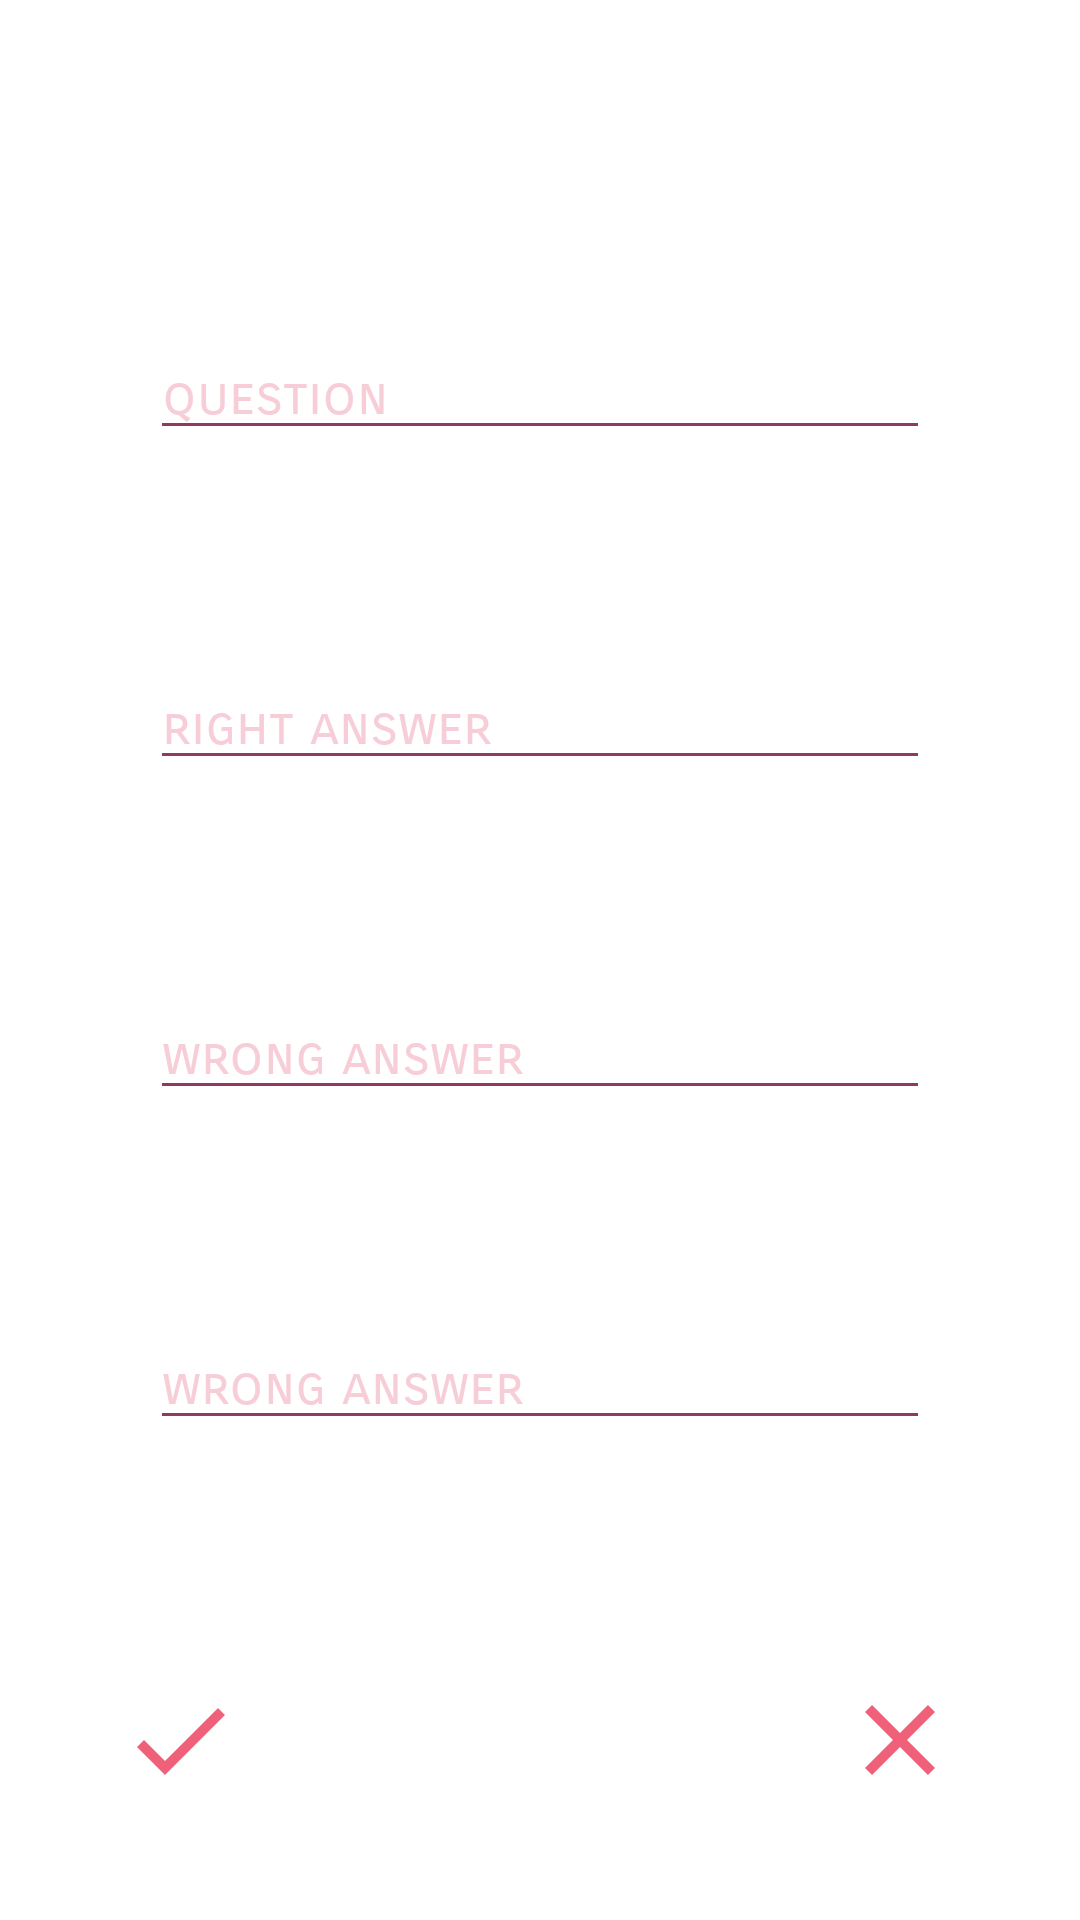

Where to tap for icons on this 1080*1920 app screen, as (x,y):
clear: (900,1740)
done: (181,1741)
